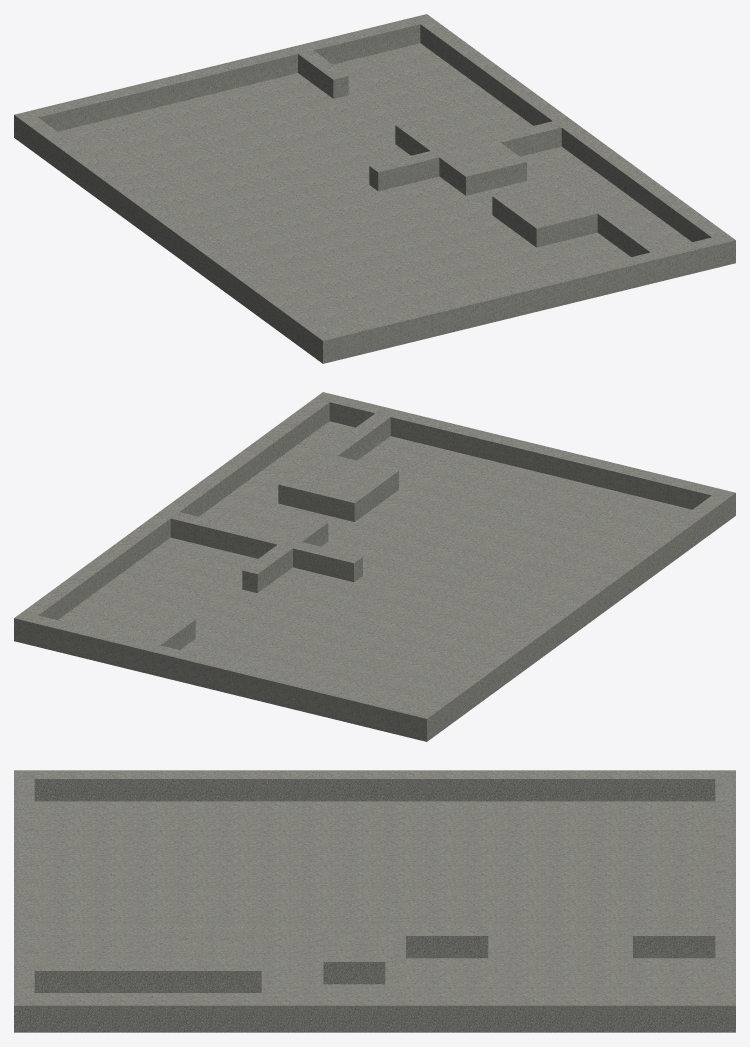
File: TestMapFromRblxStudio.obj
The picture shows the model from 3 angles, top to bottom: view 1: azimuth 30°, elevation 25°; view 2: azimuth 150°, elevation 25°; view 3: azimuth 270°, elevation 25°; orthographic projection. The views are drawn at different scales.
Visible parts, largest first — view 1: Part6, Part12, Part11, Part10, Part1, Part4, Part5, Part3, Part9, Part2, Part8, Part7; view 2: Part6, Part12, Part10, Part11, Part1, Part4, Part5, Part3, Part9, Part2, Part7, Part8; view 3: Part6, Part1, Part12, Part3, Part10, Part11, Part5, Part4, Part7, Part8, Part9, Part2.
Boxes of the visible parts, x1,y1,x2,y2 form: Part6: (14, 43, 735, 363); Part12: (14, 111, 338, 359); Part11: (330, 237, 720, 355); Part10: (29, 18, 420, 131); Part1: (412, 14, 735, 262); Part4: (492, 181, 597, 247); Part5: (431, 136, 526, 195); Part3: (554, 177, 665, 256); Part9: (369, 151, 439, 191); Part2: (492, 121, 561, 156); Part8: (298, 50, 348, 98); Part7: (395, 121, 445, 155); Part6: (14, 421, 735, 741); Part12: (411, 489, 735, 737); Part10: (29, 615, 419, 733); Part11: (329, 396, 720, 509); Part1: (14, 392, 337, 640); Part4: (293, 456, 398, 521); Part5: (231, 507, 328, 558); Part3: (278, 413, 390, 506); Part9: (293, 542, 362, 582); Part2: (170, 512, 239, 552); Part7: (242, 544, 292, 592); Part8: (145, 616, 195, 649); Part6: (14, 801, 735, 1032); Part1: (14, 997, 735, 1027); Part12: (14, 770, 735, 801); Part3: (34, 962, 261, 992); Part10: (715, 779, 735, 996); Part11: (14, 779, 34, 996); Part5: (323, 927, 405, 984); Part4: (158, 927, 261, 961); Part7: (406, 927, 488, 958); Part8: (633, 927, 715, 958); Part9: (385, 892, 405, 927); Part2: (385, 962, 405, 996).
Bounding box in the file's own units: 108 × 5.75 × 140.
Materials: 2 (2 with a texture image).
